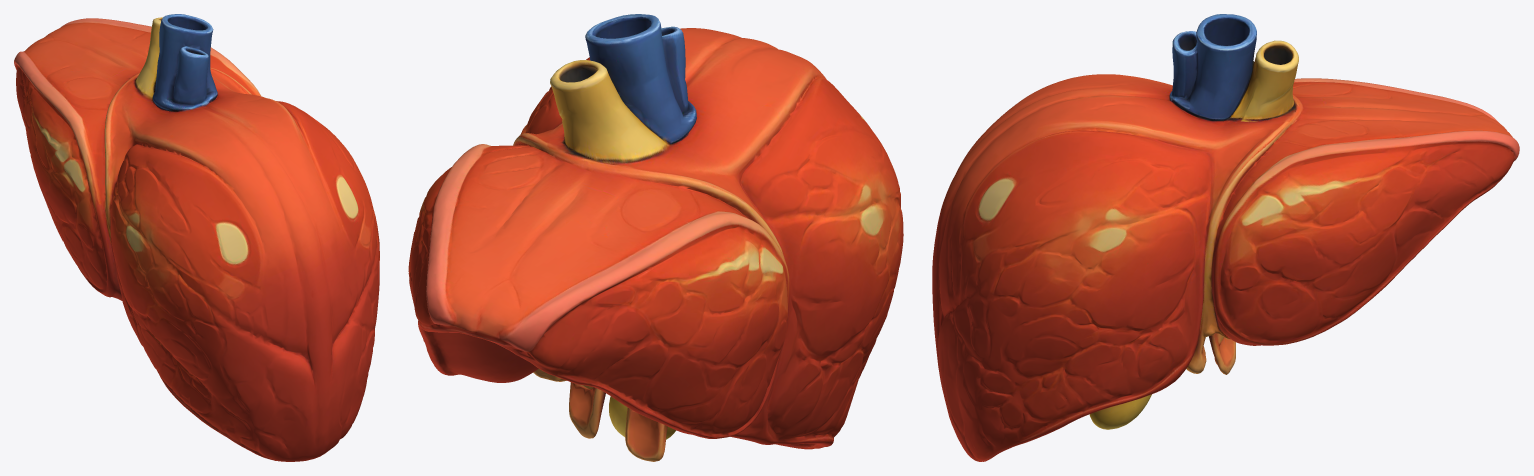
File: 5da42f9c-453f-470e-aa4f-07ceae41e878.glb
The picture shows the model from 3 angles, left to right: view 1: azimuth 30°, elevation 25°; view 2: azimuth 150°, elevation 25°; view 3: azimuth 270°, elevation 25°; orthographic projection. The views are drawn at different scales.
Visible parts, largest first — view 1: tripo_node_5ea1967f-65b8-4f6f-b4d1-49b08e572a41; view 2: tripo_node_5ea1967f-65b8-4f6f-b4d1-49b08e572a41; view 3: tripo_node_5ea1967f-65b8-4f6f-b4d1-49b08e572a41.
Boxes of the visible parts, box(x1,y1,x2,y2) form: tripo_node_5ea1967f-65b8-4f6f-b4d1-49b08e572a41: box(14, 14, 379, 461); tripo_node_5ea1967f-65b8-4f6f-b4d1-49b08e572a41: box(408, 14, 903, 461); tripo_node_5ea1967f-65b8-4f6f-b4d1-49b08e572a41: box(932, 14, 1519, 461).
Bounding box in the file's own units: 0.518 × 0.7943 × 1.
1 material, 1 textured.
